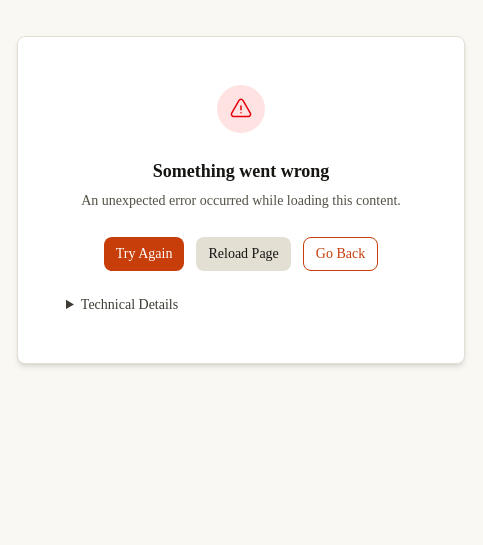
Scenario: ErrorFallback component › Error details › displays error stack when available
# Click to expand details
Click the heading "Technical Details" at {"x": 130, "y": 305}, box [81, 297, 178, 312]
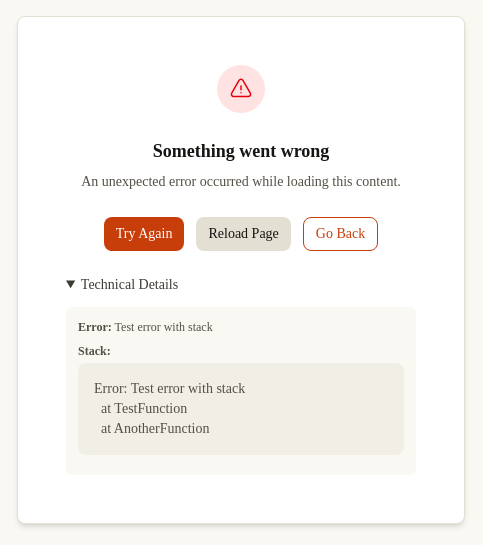
Expected: the text "at TestFunction" is shown, [94, 381, 245, 436]
